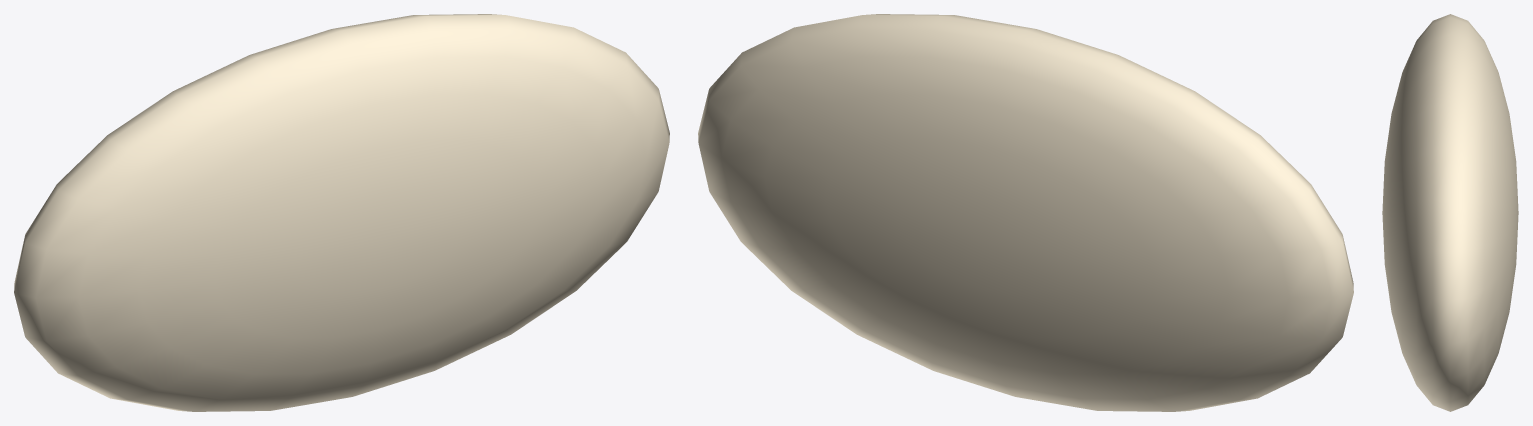
Rendered from Prop_Cloth.fbx.
3 views of the same model, side by side, from view 1: azimuth 30°, elevation 25°; view 2: azimuth 150°, elevation 25°; view 3: azimuth 270°, elevation 25° (orthographic). The views are drawn at different scales.
Parts seen in each view (by area): view 1: Prop_Cloth; view 2: Prop_Cloth; view 3: Prop_Cloth.
Boxes of the visible parts, bbox=[...] form: Prop_Cloth: bbox=[14, 14, 669, 411]; Prop_Cloth: bbox=[698, 14, 1353, 411]; Prop_Cloth: bbox=[1382, 14, 1518, 411].
Size of the model in its own units: 0.64 by 0.34 by 0.14.
